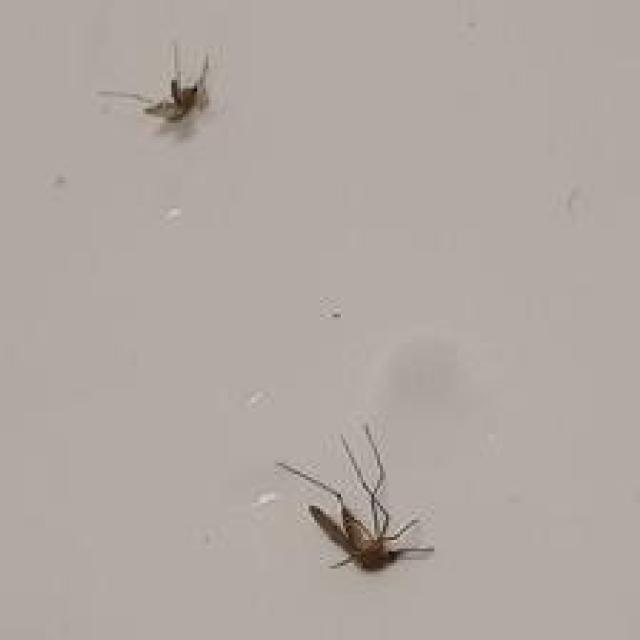Culex: (274, 421, 434, 573)
